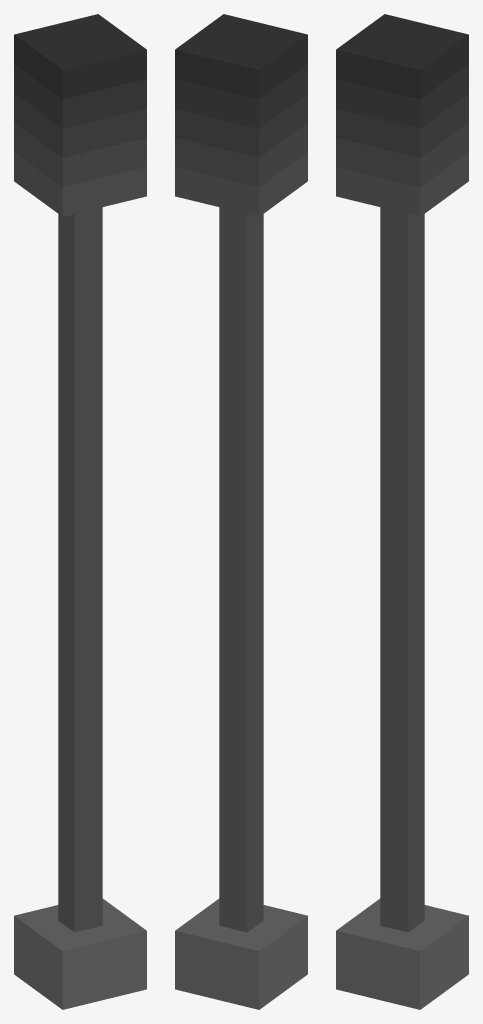
File: 麦克风.gltf
The picture shows the model from 3 angles, left to right: view 1: azimuth 30°, elevation 25°; view 2: azimuth 150°, elevation 25°; view 3: azimuth 330°, elevation 25°; orthographic projection.
Parts seen in each view (by area): view 1: Object; view 2: Object; view 3: Object.
Part boxes in pixels (bbox=[...]): Object: bbox=[14, 14, 146, 1009]; Object: bbox=[175, 14, 307, 1009]; Object: bbox=[336, 14, 468, 1009].
Size of the model in its own units: 3 by 32 by 3.
1 material, 1 textured.
